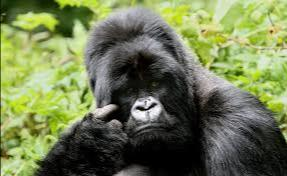goriile_montagne: (55, 8, 268, 176)
